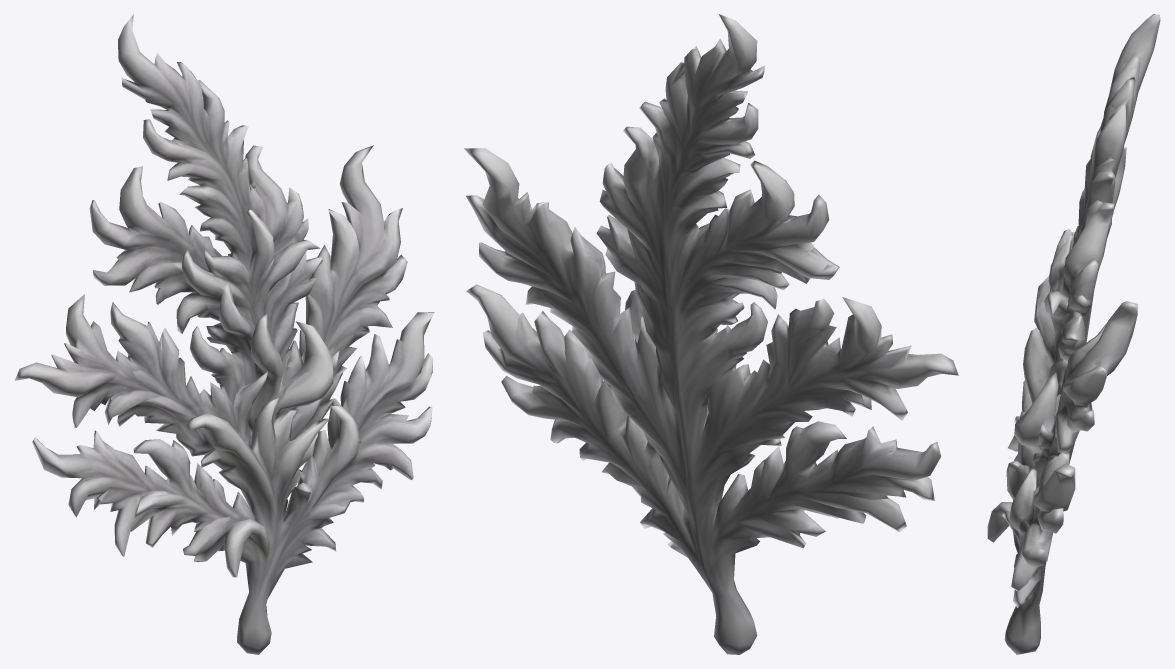
Rendered from gill_base3.glb.
3 views of the same model, side by side, from view 1: azimuth 30°, elevation 25°; view 2: azimuth 150°, elevation 25°; view 3: azimuth 270°, elevation 25° (orthographic). The views are drawn at different scales.
Visible parts, largest first — view 1: tripo_node_19a76daa-c163-4fd8-8098-d5c62f207576; view 2: tripo_node_19a76daa-c163-4fd8-8098-d5c62f207576; view 3: tripo_node_19a76daa-c163-4fd8-8098-d5c62f207576.
Part boxes in pixels (box(x1,y1,x2,y2)): tripo_node_19a76daa-c163-4fd8-8098-d5c62f207576: box(14, 14, 434, 654); tripo_node_19a76daa-c163-4fd8-8098-d5c62f207576: box(464, 14, 958, 654); tripo_node_19a76daa-c163-4fd8-8098-d5c62f207576: box(987, 14, 1160, 654).
Bounding box in the file's own units: 0.7131 × 0.9819 × 0.251.
Materials: 1 (1 with a texture image).
